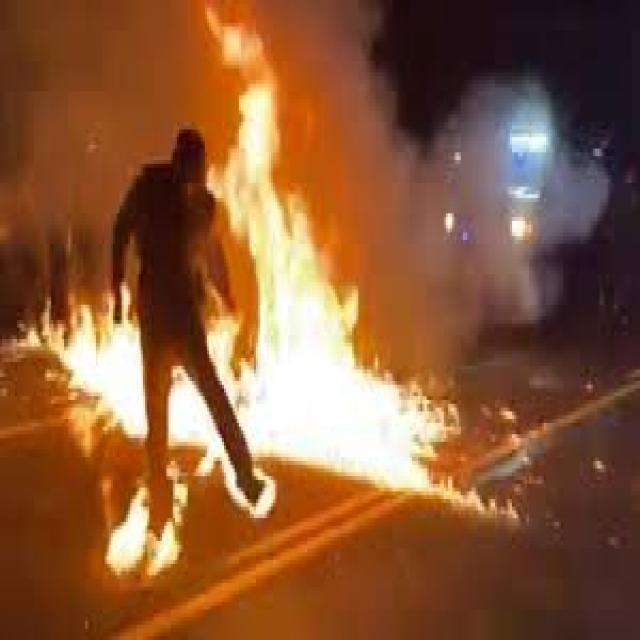fire: (14, 36, 516, 595)
